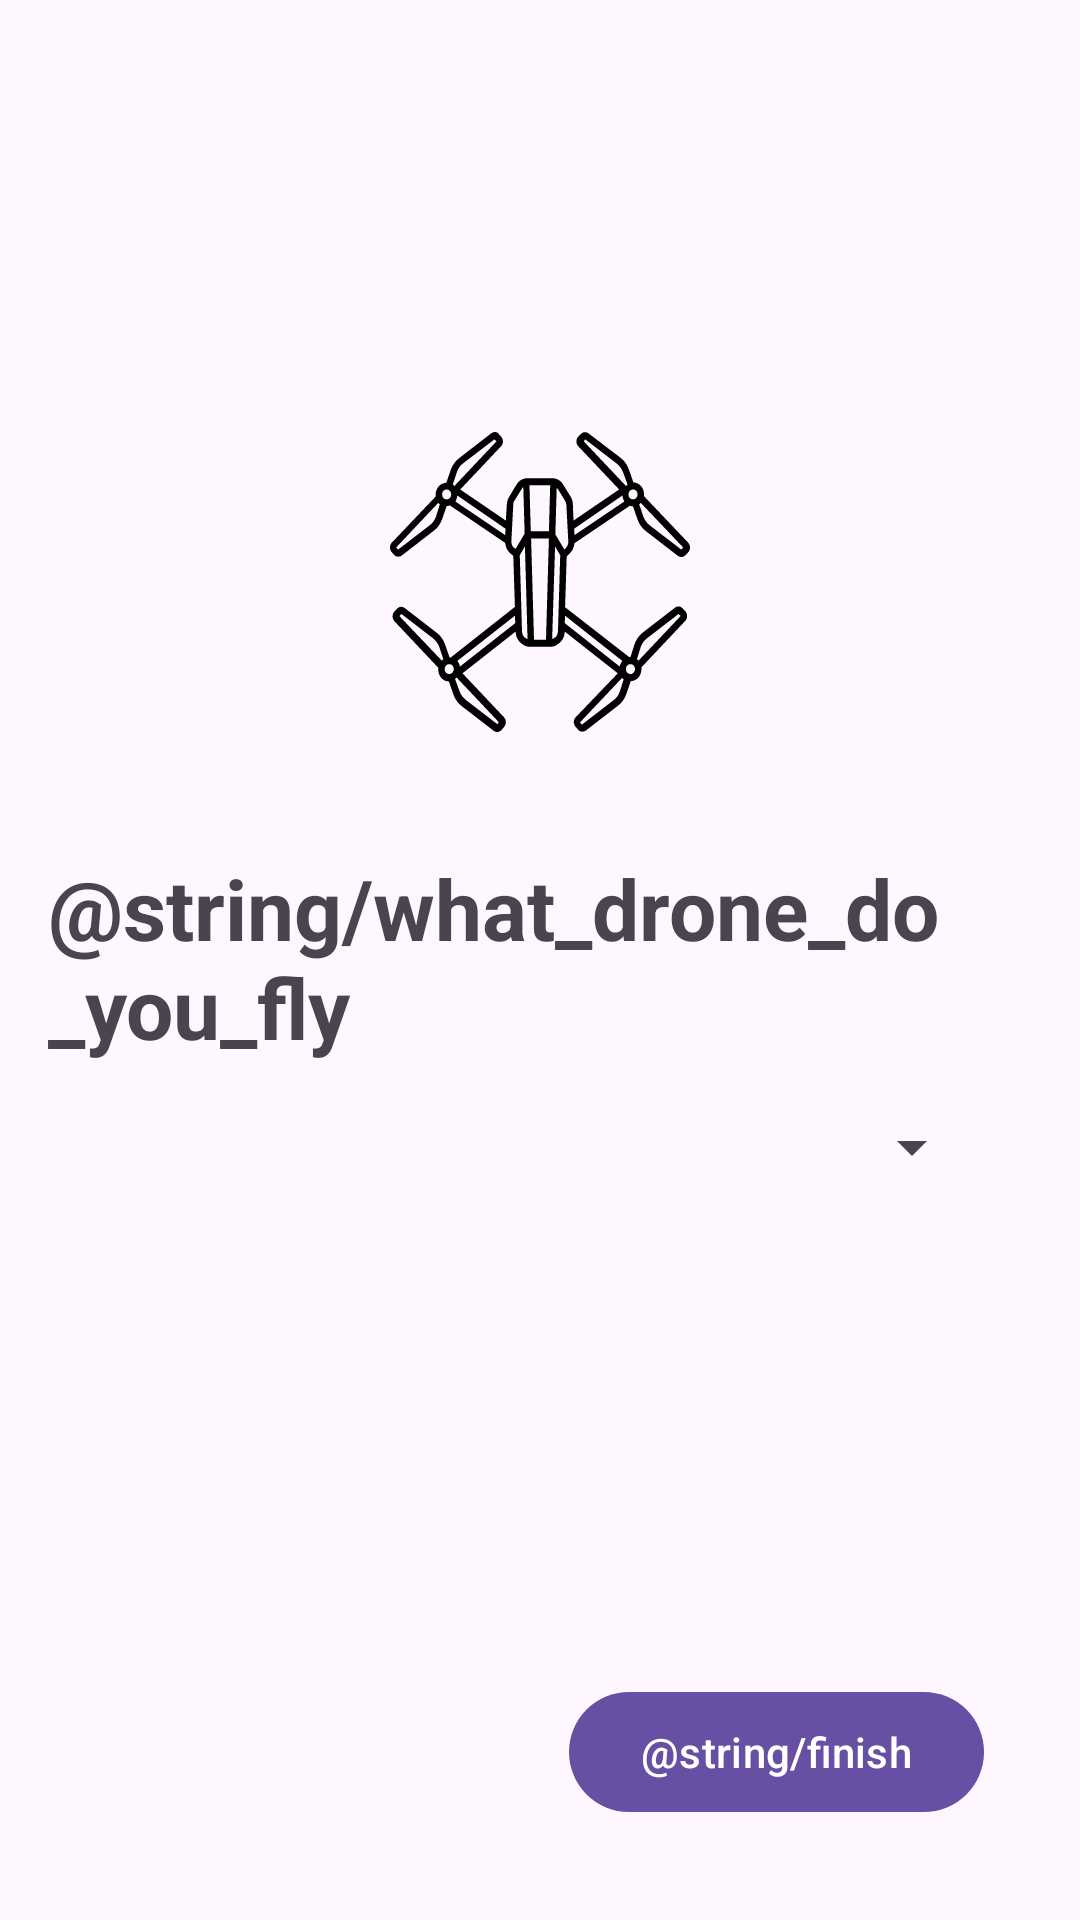

Where icons sit on this 1080px×1920px app screen, as (x1, y1, x2, y2):
drone choose: (390, 432, 690, 732)
